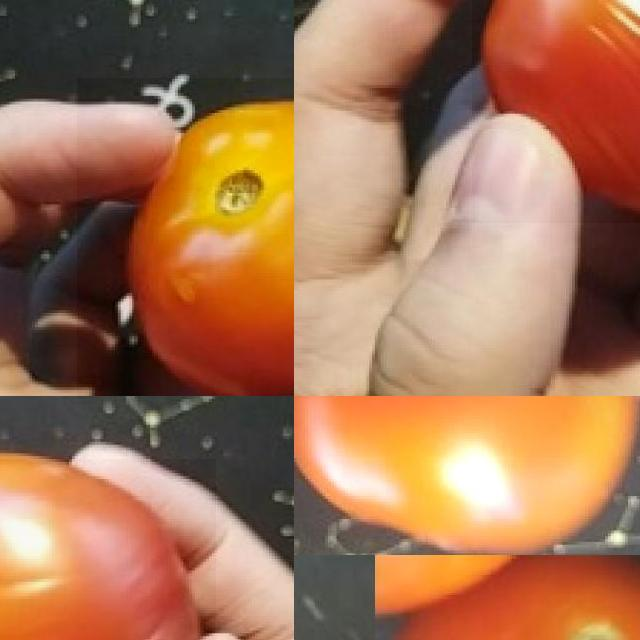Fresh Tomato: (77, 78, 294, 396), (294, 396, 640, 555), (375, 555, 640, 640)
Rotten Tomato: (0, 459, 216, 640), (472, 0, 640, 223)
